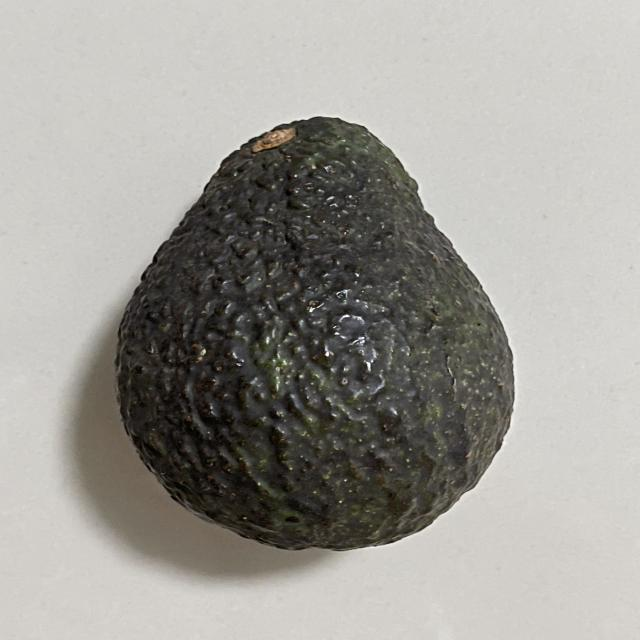avocado: (89, 97, 534, 558)
